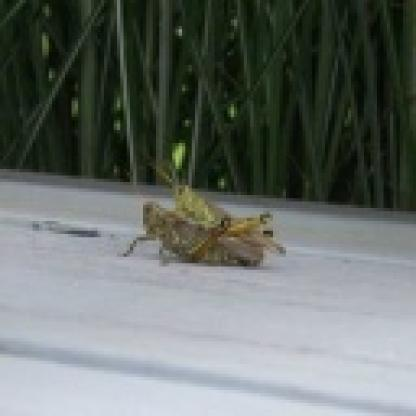grasshopper: (163, 166, 289, 253), (131, 199, 266, 278)
